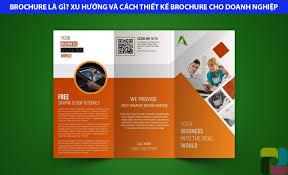paper: (50, 17, 241, 173)
